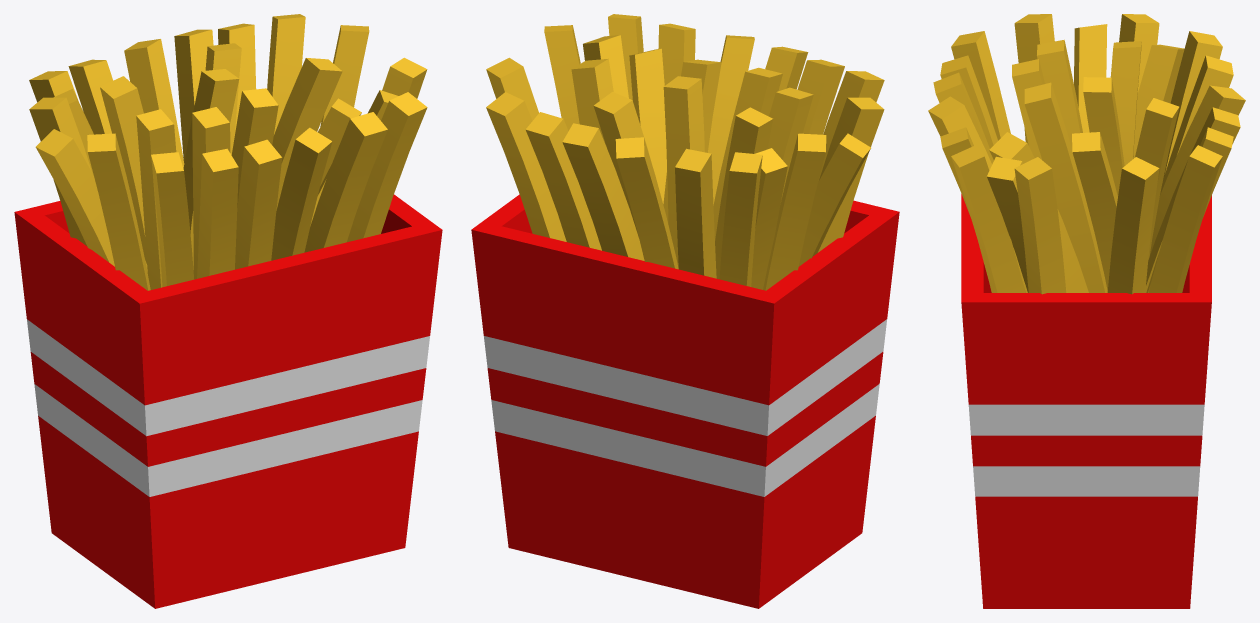
Rendered from French_fries.fbx.
3 views of the same model, side by side, from view 1: azimuth 30°, elevation 25°; view 2: azimuth 150°, elevation 25°; view 3: azimuth 270°, elevation 25° (orthographic).
Parts seen in each view (by area): view 1: French_fries; view 2: French_fries; view 3: French_fries.
Part boxes in pixels (<box>): French_fries: <box>14,14,442,608</box>; French_fries: <box>471,14,899,608</box>; French_fries: <box>928,14,1245,608</box>.
Size of the model in its own units: 40.31 by 50.36 by 31.28.
